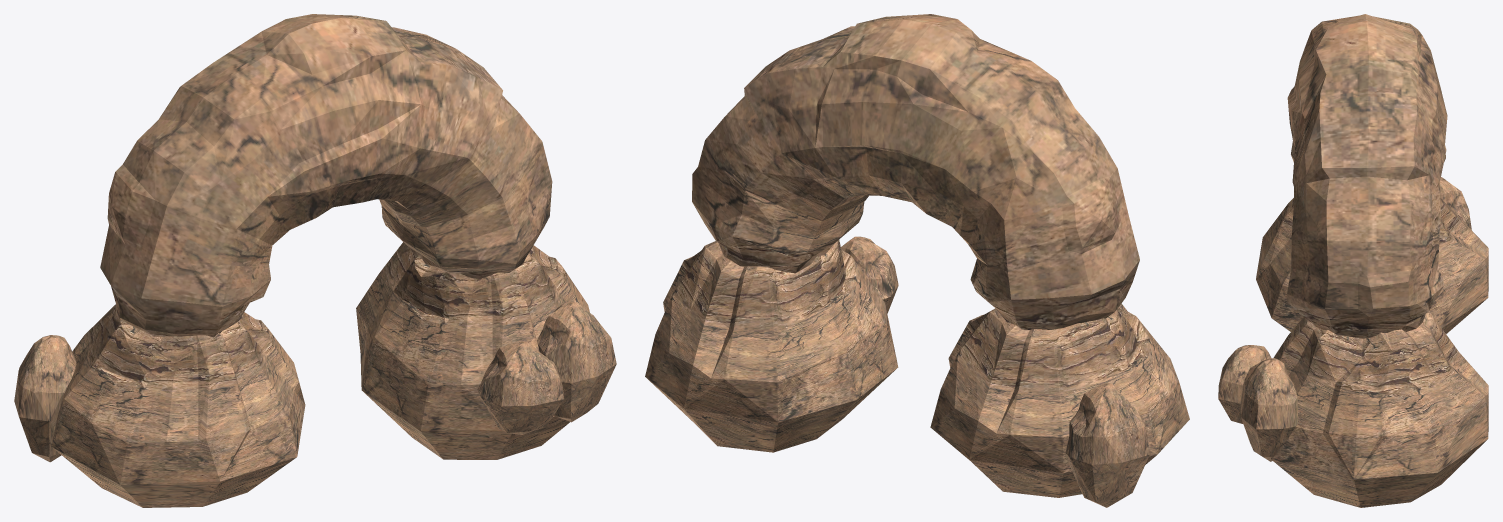
The model's file is rock_tatt_arch_sm_l0.fbx.
The picture shows the model from 3 angles, left to right: view 1: azimuth 30°, elevation 25°; view 2: azimuth 150°, elevation 25°; view 3: azimuth 270°, elevation 25°; orthographic projection. The views are drawn at different scales.
Parts seen in each view (by area): view 1: mesh_node; view 2: mesh_node; view 3: mesh_node.
Part boxes in pixels (x1=…): mesh_node: x1=14, y1=14, x2=616, y2=507; mesh_node: x1=645, y1=14, x2=1189, y2=507; mesh_node: x1=1218, y1=14, x2=1488, y2=507.
Bounding box in the file's own units: 46.64 × 39.21 × 23.35.
